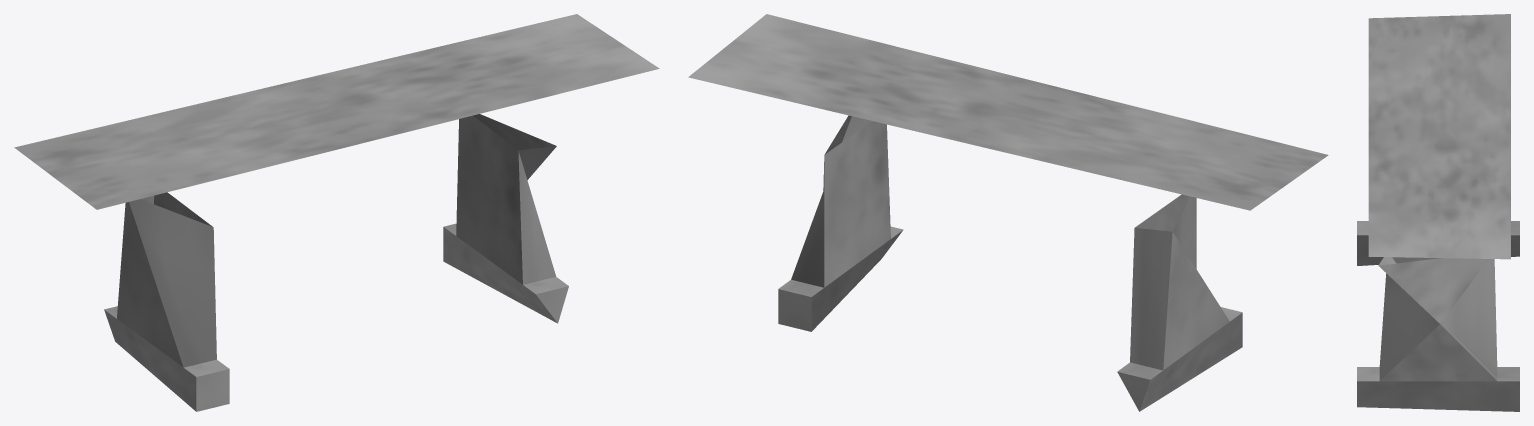
The model's file is BancoPedraLOD1.fbx.
3 renders of one model, left to right at view 1: azimuth 30°, elevation 25°; view 2: azimuth 150°, elevation 25°; view 3: azimuth 270°, elevation 25°, orthographic. The views are drawn at different scales.
Visible parts, largest first — view 1: BancoDeConcretoLOD1; view 2: BancoDeConcretoLOD1; view 3: BancoDeConcretoLOD1.
Part boxes in pixels (left/top/right/bottom): BancoDeConcretoLOD1: left=14, top=14, right=659, bottom=411; BancoDeConcretoLOD1: left=688, top=14, right=1328, bottom=411; BancoDeConcretoLOD1: left=1357, top=14, right=1519, bottom=411.
Bounding box in the file's own units: 131 × 49.7 × 37.2.
